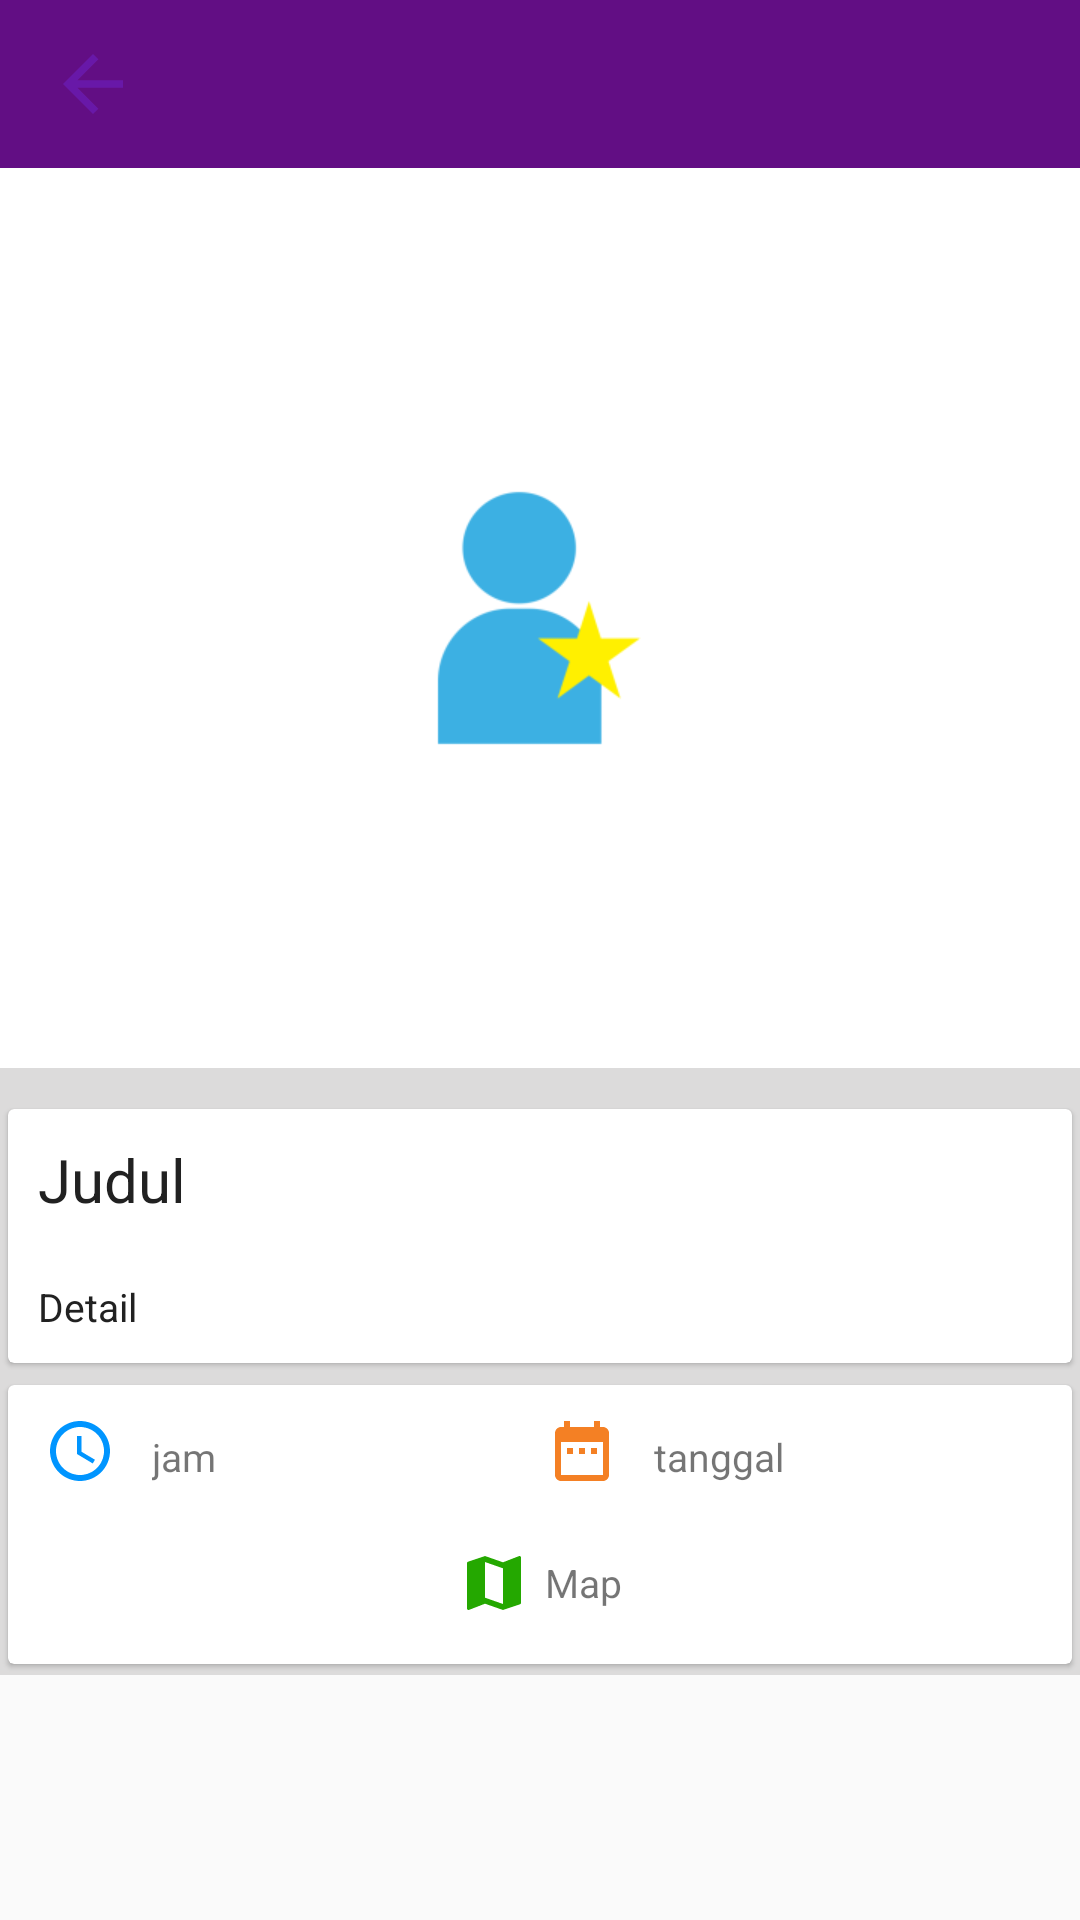

Screen size 1080×1920. Icon name, then its box in pixels as (x1, y1, x2, y2):
access time: (50, 1421, 110, 1481)
arrow back: (64, 55, 123, 113)
date draw: (555, 1421, 609, 1481)
